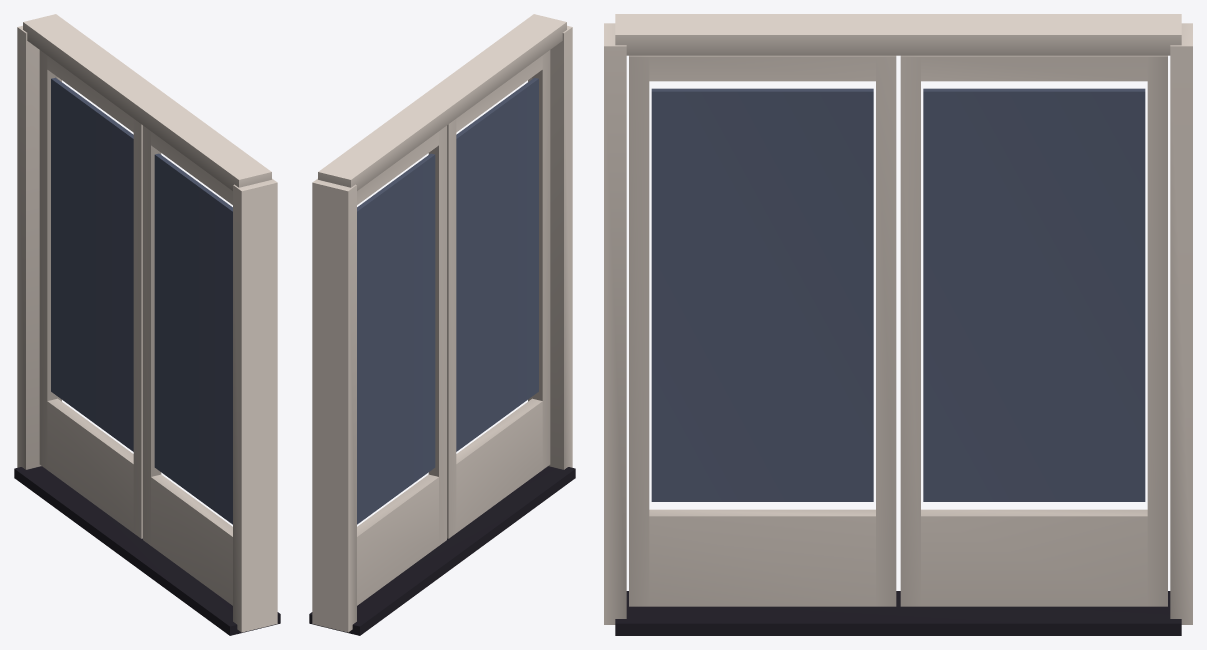
The picture shows the model from 3 angles, left to right: view 1: azimuth 30°, elevation 25°; view 2: azimuth 150°, elevation 25°; view 3: azimuth 270°, elevation 25°; orthographic projection. The views are drawn at different scales.
Visible parts, largest first — view 1: body_pal_picketWhite, marketLeafL_pal_denimLight, marketLeafR_pal_denimLight, marketLeafL_pal_picketWhite, marketLeafR_pal_picketWhite, body_pal_uiDark; view 2: body_pal_picketWhite, marketLeafR_pal_denimLight, marketLeafL_pal_denimLight, marketLeafR_pal_picketWhite, marketLeafL_pal_picketWhite, body_pal_uiDark; view 3: marketLeafL_pal_denimLight, marketLeafR_pal_denimLight, marketLeafL_pal_picketWhite, marketLeafR_pal_picketWhite, body_pal_picketWhite, body_pal_uiDark.
Boxes of the visible parts, bbox=[...] form: body_pal_picketWhite: bbox=[17, 14, 277, 632]; marketLeafL_pal_denimLight: bbox=[51, 77, 133, 451]; marketLeafR_pal_denimLight: bbox=[154, 153, 232, 524]; marketLeafL_pal_picketWhite: bbox=[39, 50, 142, 538]; marketLeafR_pal_picketWhite: bbox=[143, 125, 232, 605]; body_pal_uiDark: bbox=[14, 466, 280, 635]; body_pal_picketWhite: bbox=[312, 14, 572, 632]; marketLeafR_pal_denimLight: bbox=[456, 77, 538, 451]; marketLeafL_pal_denimLight: bbox=[357, 153, 435, 524]; marketLeafR_pal_picketWhite: bbox=[447, 50, 550, 538]; marketLeafL_pal_picketWhite: bbox=[357, 125, 446, 605]; body_pal_uiDark: bbox=[309, 466, 575, 635]; marketLeafL_pal_denimLight: bbox=[923, 88, 1145, 501]; marketLeafR_pal_denimLight: bbox=[651, 88, 873, 501]; marketLeafL_pal_picketWhite: bbox=[900, 55, 1167, 606]; marketLeafR_pal_picketWhite: bbox=[629, 55, 896, 606]; body_pal_picketWhite: bbox=[604, 14, 1192, 624]; body_pal_uiDark: bbox=[615, 591, 1181, 635].
Bounding box in the file's own units: 0.34 × 2.9 × 2.6.
